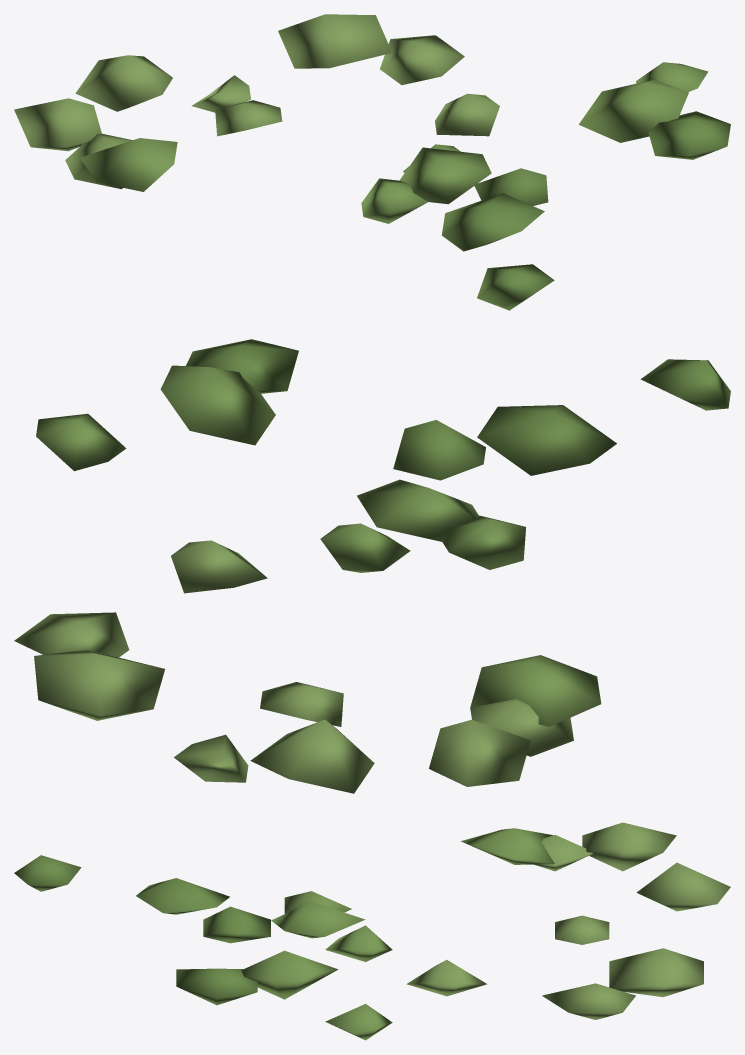
The model's file is canopy-2--1--1.glb.
3 renders of one model, top to bottom at view 1: azimuth 30°, elevation 25°; view 2: azimuth 150°, elevation 25°; view 3: azimuth 270°, elevation 25°, orthographic. The views are drawn at different scales.
Bounding box in the file's own units: 105 × 22.5 × 132.
Materials: 1 (1 with a texture image).
